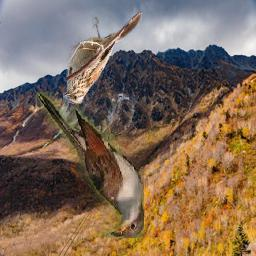Cuckoo: (36, 92, 144, 238)
Sparrow: (64, 12, 143, 105)
